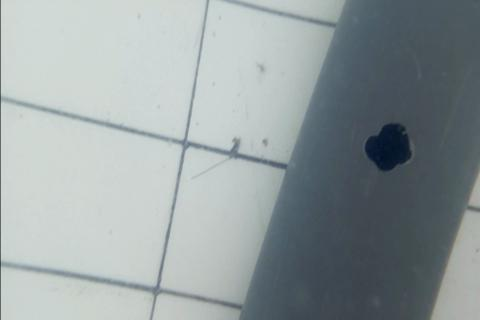kebocoran: (363, 120, 414, 174)
